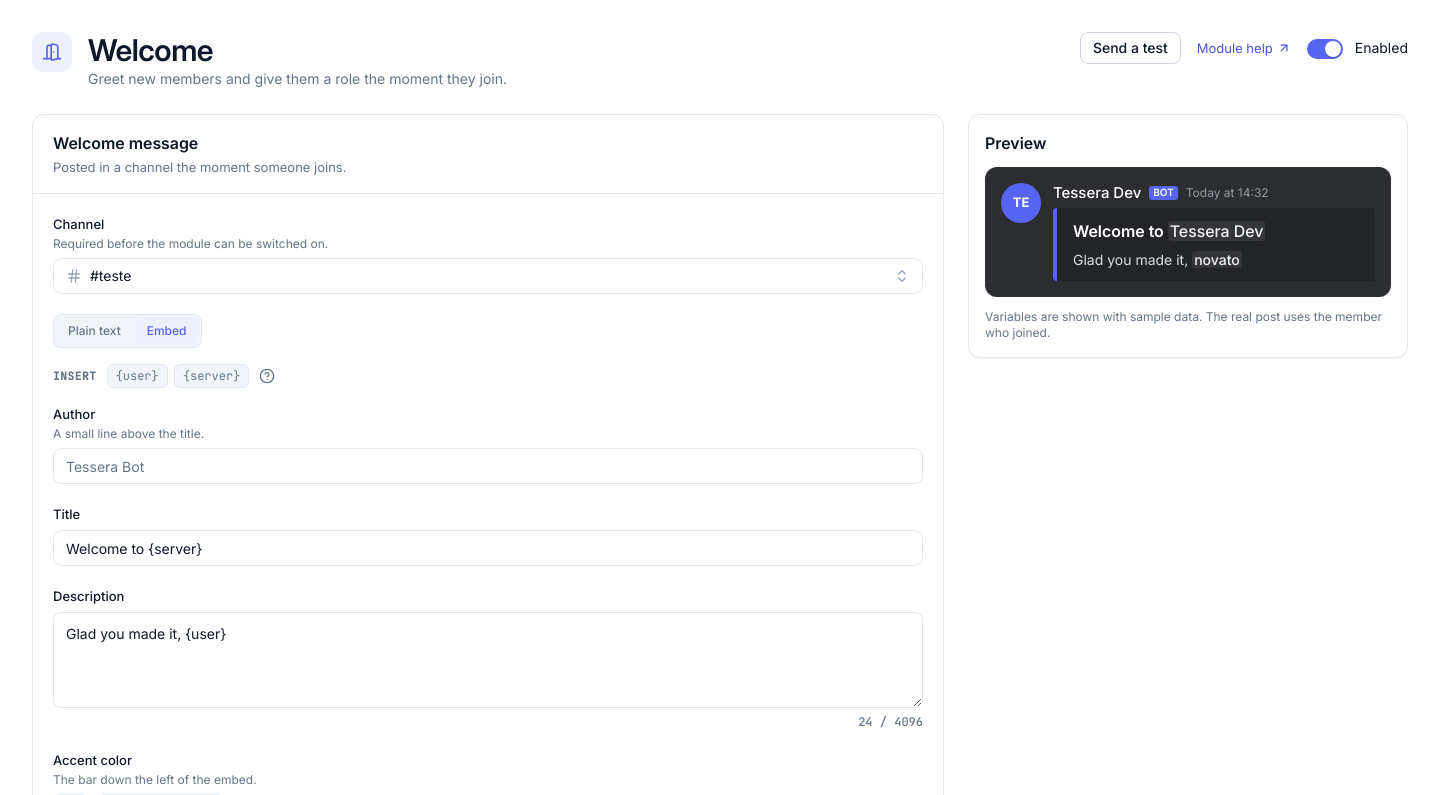
Test case: WelcomeScreen › raises the save bar on the first edit
This screenshot has width=1440, height=795.
Click the switch named "Enabled" at (1325, 49), box [1307,39,1343,59]
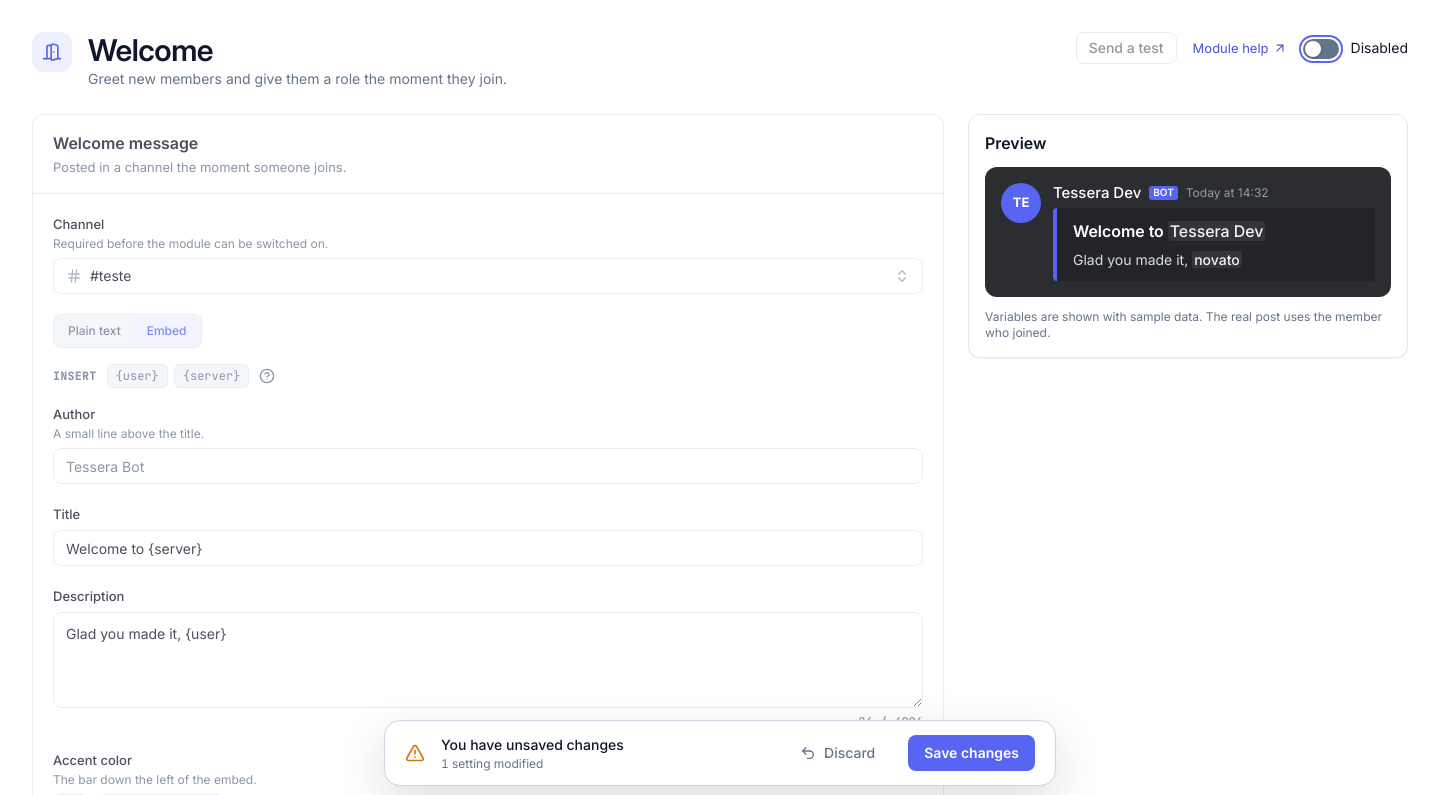
Now the element "unsaved changes" is shown, box [384,720,1056,786]
Now the text "1 setting modified" is shown, box [441,756,543,771]
